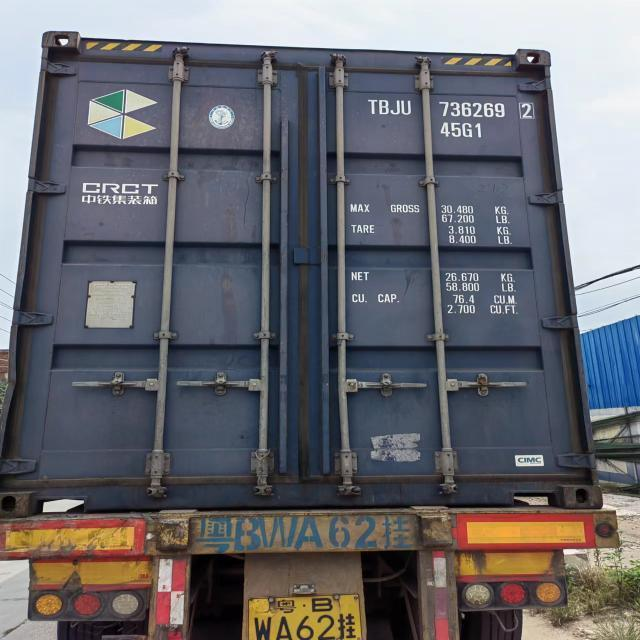ISO: (440, 122, 484, 140)
container_number: (366, 95, 532, 118)
